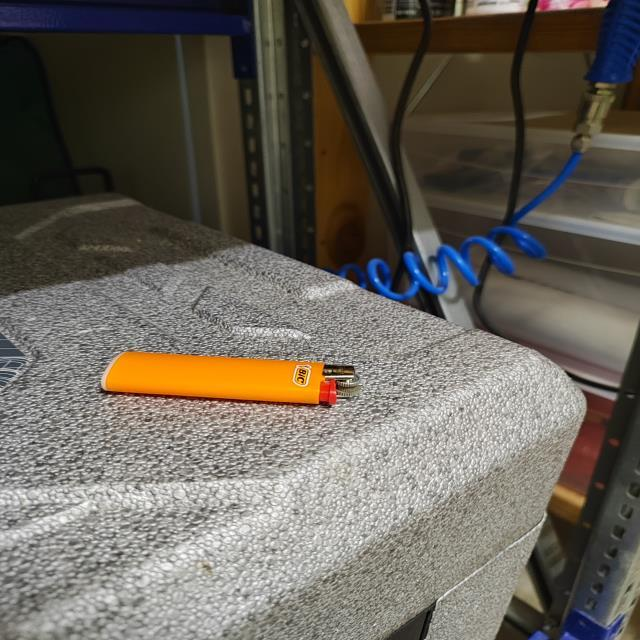lighter: (101, 352, 358, 406)
